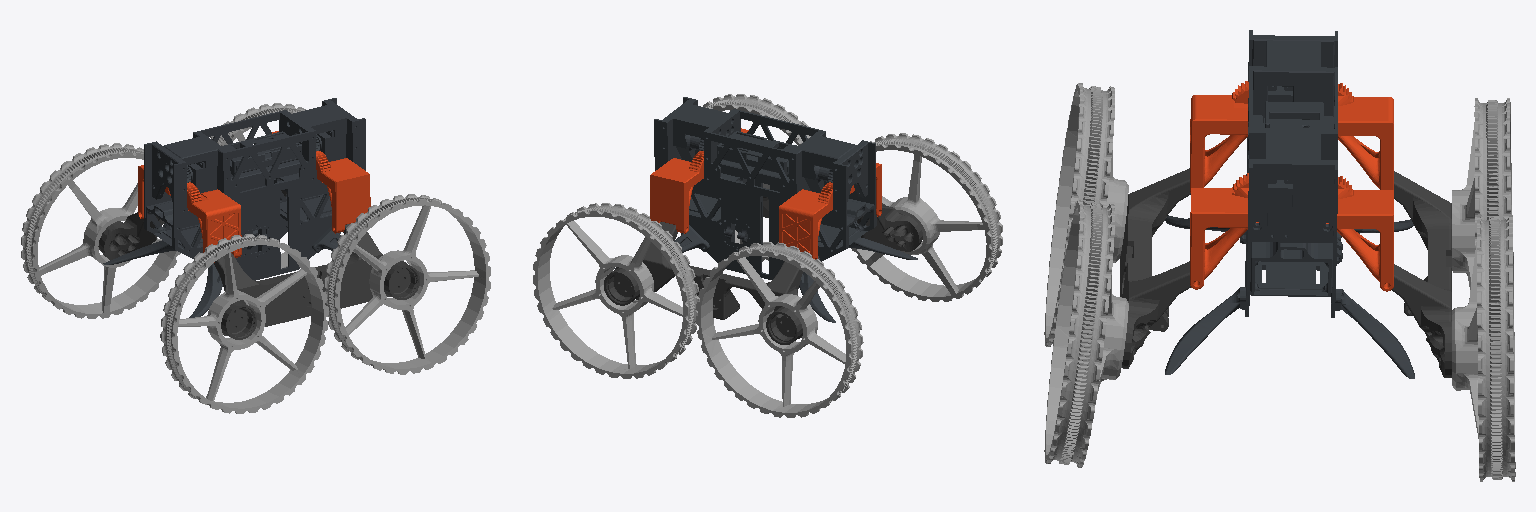
robot.urdf — drobotv0:
<?xml version="1.0" encoding="utf-8"?>
<!-- This URDF was automatically created by SolidWorks to URDF Exporter! Originally created by [author] ([email redacted]) 
     Commit Version: 1.6.0-4-g7f85cfe  Build Version: 1.6.7995.38578
     For more information, please see http://wiki.ros.org/sw_urdf_exporter -->
<robot
  name="drobotv0">
  <link
    name="base_link">
    <inertial>
      <origin
        xyz="-0.0889244188854842 -0.0297072849881794 -0.00929750180536801"
        rpy="0 0 0" />
      <mass
        value="0.833077329855222" />
      <inertia
        ixx="0.000773080517150311"
        ixy="4.75348987099268E-07"
        ixz="3.15411374662775E-05"
        iyy="0.00170443636203176"
        iyz="-5.22766703200179E-06"
        izz="0.00134882396575001" />
    </inertial>
    <visual>
      <origin
        xyz="0 0 0"
        rpy="0 0 0" />
      <geometry>
        <mesh
          filename="package://drobot_description/mesh_sub/base_link.STL" />
      </geometry>
      <material
        name="">
        <color
          rgba="0.262745098039216 0.282352941176471 0.301960784313725 1" />
      </material>
    </visual>
    <collision>
      <origin
        xyz="0 0 0"
        rpy="0 0 0" />
      <geometry>
        <mesh
          filename="package://drobot_description/mesh_sub/base_link.STL" />
      </geometry>
    </collision>
  </link>
  <link
    name="L_shaped_LF">
    <inertial>
      <origin
        xyz="-0.0914999999999999 -0.226139844904917 -0.00606387284104033"
        rpy="0 0 0" />
      <mass
        value="0" />
      <inertia
        ixx="0"
        ixy="0"
        ixz="0"
        iyy="0"
        iyz="0"
        izz="0" />
    </inertial>
    <visual>
      <origin
        xyz="0 0 0"
        rpy="0 0 0" />
      <geometry>
        <mesh
          filename="package://drobot_description/mesh_sub/L_shaped_LF.STL" />
      </geometry>
      <material
        name="">
        <color
          rgba="0.866666666666667 0.32156862745098 0.156862745098039 1" />
      </material>
    </visual>
    <collision>
      <origin
        xyz="0 0 0"
        rpy="0 0 0" />
      <geometry>
        <mesh
          filename="package://drobot_description/mesh_sub/L_shaped_LF.STL" />
      </geometry>
    </collision>
  </link>
  <joint
    name="servo_LF"
    type="revolute">
    <origin
      xyz="0 0 0"
      rpy="0 0 0" />
    <parent
      link="base_link" />
    <child
      link="L_shaped_LF" />
    <axis
      xyz="1 0 0" />
    <limit
      lower="-3.14"
      upper="3.14"
      effort="1"
      velocity="1" />
  </joint>
  <link
    name="arm_left">
    <inertial>
      <origin
        xyz="-0.0931620123430914 0.0448986931827952 -0.046046331460358"
        rpy="0 0 0" />
      <mass
        value="0.24484228934346" />
      <inertia
        ixx="0.000170537098668617"
        ixy="-1.58233646520693E-06"
        ixz="-1.7429684129348E-06"
        iyy="0.00224130018665751"
        iyz="5.42649839520087E-05"
        izz="0.00220859312793653" />
    </inertial>
    <visual>
      <origin
        xyz="0 0 0"
        rpy="0 0 0" />
      <geometry>
        <mesh
          filename="package://drobot_description/mesh_sub/arm_left.STL" />
      </geometry>
      <material
        name="">
        <color
          rgba="0.301960784313725 0.301960784313725 0.301960784313725 1" />
      </material>
    </visual>
    <collision>
      <origin
        xyz="0 0 0"
        rpy="0 0 0" />
      <geometry>
        <mesh
          filename="package://drobot_description/mesh_sub/arm_left.STL" />
      </geometry>
    </collision>
  </link>
  <joint
    name="armjoint_left"
    type="revolute">
    <origin
      xyz="0 0.05 -0.06"
      rpy="0 0 0" />
    <parent
      link="L_shaped_LF" />
    <child
      link="arm_left" />
    <axis
      xyz="-1 0 0" />
    <limit
      lower="-3.14"
      upper="3.14"
      effort="1"
      velocity="1" />
  </joint>
  <link
    name="wheel_LF">
    <inertial>
      <origin
        xyz="2.60862526024752E-10 -0.000286889805765134 -3.12484399267454E-06"
        rpy="0 0 0" />
      <mass
        value="0.154468165769782" />
      <inertia
        ixx="0.000600971981829425"
        ixy="1.08364593575826E-12"
        ixz="7.04343356440919E-11"
        iyy="0.00115439211878326"
        iyz="6.13580681107254E-06"
        izz="0.000601040353425951" />
    </inertial>
    <visual>
      <origin
        xyz="0 0 0"
        rpy="0 0 0" />
      <geometry>
        <mesh
          filename="package://drobot_description/mesh_sub/wheel_LF.STL" />
      </geometry>
      <material
        name="">
        <color
          rgba="0.647058823529412 0.647058823529412 0.647058823529412 1" />
      </material>
    </visual>
    <collision>
      <origin
        xyz="0 0 0"
        rpy="0 0 0" />
      <geometry>
        <mesh
          filename="package://drobot_description/mesh_sub/wheel_LF.STL" />
      </geometry>
    </collision>
  </link>
  <joint
    name="wheejoint_LF"
    type="continuous">
    <origin
      xyz="0.023562 0.08366 -0.059076"
      rpy="0 0 0" />
    <parent
      link="arm_left" />
    <child
      link="wheel_LF" />
    <axis
      xyz="0 0.99994 0.011086" />
    <limit
      lower="-3.14"
      upper="3.14"
      effort="1"
      velocity="1" />
  </joint>
  <link
    name="Wheel_LR">
    <inertial>
      <origin
        xyz="-5.15756337221562E-08 0.000105250285688585 1.17488931114518E-06"
        rpy="0 0 0" />
      <mass
        value="0.152312962480992" />
      <inertia
        ixx="0.000598326596096096"
        ixy="-1.78118226081761E-11"
        ixz="-1.27742129121258E-10"
        iyy="0.00115245973115687"
        iyz="6.14368741670457E-06"
        izz="0.000598394447443558" />
    </inertial>
    <visual>
      <origin
        xyz="0 0 0"
        rpy="0 0 0" />
      <geometry>
        <mesh
          filename="package://drobot_description/mesh_sub/Wheel_LR.STL" />
      </geometry>
      <material
        name="">
        <color
          rgba="0.647058823529412 0.647058823529412 0.647058823529412 1" />
      </material>
    </visual>
    <collision>
      <origin
        xyz="0 0 0"
        rpy="0 0 0" />
      <geometry>
        <mesh
          filename="package://drobot_description/mesh_sub/Wheel_LR.STL" />
      </geometry>
    </collision>
  </link>
  <joint
    name="wheeljoint_LR"
    type="continuous">
    <origin
      xyz="-0.20956 0.08166 -0.059098"
      rpy="0 0 0" />
    <parent
      link="arm_left" />
    <child
      link="Wheel_LR" />
    <axis
      xyz="0 0.99994 0.011086" />
    <limit
      lower="-3.14"
      upper="3.14"
      effort="1"
      velocity="1" />
  </joint>
  <link
    name="L_shaped_LR">
    <inertial>
      <origin
        xyz="0.0935000000000001 -0.226000000000001 -0.00999999999998616"
        rpy="0 0 0" />
      <mass
        value="0" />
      <inertia
        ixx="0"
        ixy="0"
        ixz="0"
        iyy="0"
        iyz="0"
        izz="0" />
    </inertial>
    <visual>
      <origin
        xyz="0 0 0"
        rpy="0 0 0" />
      <geometry>
        <mesh
          filename="package://drobot_description/mesh_sub/L_shaped_LR.STL" />
      </geometry>
      <material
        name="">
        <color
          rgba="0.866666666666667 0.32156862745098 0.156862745098039 1" />
      </material>
    </visual>
    <collision>
      <origin
        xyz="0 0 0"
        rpy="0 0 0" />
      <geometry>
        <mesh
          filename="package://drobot_description/mesh_sub/L_shaped_LR.STL" />
      </geometry>
    </collision>
  </link>
  <joint
    name="servo_LR"
    type="revolute">
    <origin
      xyz="-0.185 0 0"
      rpy="-0.017411 0 0" />
    <parent
      link="base_link" />
    <child
      link="L_shaped_LR" />
    <axis
      xyz="1 0 0" />
    <limit
      lower="-3.14"
      upper="3.14"
      effort="1"
      velocity="1" />
    <mimic
      joint="servo_LF"
      multiplier="1"
      offset="0" />
  </joint>
  <link
    name="L_shaped_RF">
    <inertial>
      <origin
        xyz="-0.0019695833812847 -0.0309831143748686 -0.0138278315830626"
        rpy="0 0 0" />
      <mass
        value="0.0905005401209127" />
      <inertia
        ixx="7.54905591561205E-05"
        ixy="6.13267441308909E-06"
        ixz="3.92994349377663E-06"
        iyy="5.55206991037999E-05"
        iyz="-2.21490616791507E-05"
        izz="5.79185192001968E-05" />
    </inertial>
    <visual>
      <origin
        xyz="0 0 0"
        rpy="0 0 0" />
      <geometry>
        <mesh
          filename="package://drobot_description/mesh_sub/L_shaped_RF.STL" />
      </geometry>
      <material
        name="">
        <color
          rgba="0.866666666666667 0.32156862745098 0.156862745098039 1" />
      </material>
    </visual>
    <collision>
      <origin
        xyz="0 0 0"
        rpy="0 0 0" />
      <geometry>
        <mesh
          filename="package://drobot_description/mesh_sub/L_shaped_RF.STL" />
      </geometry>
    </collision>
  </link>
  <joint
    name="servo_RF"
    type="revolute">
    <origin
      xyz="0 -0.058991 0.0010272"
      rpy="-0.017411 0 0" />
    <parent
      link="base_link" />
    <child
      link="L_shaped_RF" />
    <axis
      xyz="1 0 0" />
    <limit
      lower="-3.14"
      upper="3.14"
      effort="1"
      velocity="1" />
  </joint>
  <link
    name="arm_right">
    <inertial>
      <origin
        xyz="-0.0908822478205685 -0.050184669302771 -0.0447973541801233"
        rpy="0 0 0" />
      <mass
        value="0.308279334191148" />
      <inertia
        ixx="0.000203101220752389"
        ixy="-4.87097044355127E-06"
        ixz="1.17916791952934E-05"
        iyy="0.00240539625392237"
        iyz="-5.88234514179037E-05"
        izz="0.00237296769471379" />
    </inertial>
    <visual>
      <origin
        xyz="0 0 0"
        rpy="0 0 0" />
      <geometry>
        <mesh
          filename="package://drobot_description/mesh_sub/arm_right.STL" />
      </geometry>
      <material
        name="">
        <color
          rgba="0.301960784313725 0.301960784313725 0.301960784313725 1" />
      </material>
    </visual>
    <collision>
      <origin
        xyz="0 0 0"
        rpy="0 0 0" />
      <geometry>
        <mesh
          filename="package://drobot_description/mesh_sub/arm_right.STL" />
      </geometry>
    </collision>
  </link>
  <joint
    name="armjoint_right"
    type="revolute">
    <origin
      xyz="0 -0.049908 -0.060076"
      rpy="0.0015296 0 0" />
    <parent
      link="L_shaped_RF" />
    <child
      link="arm_right" />
    <axis
      xyz="-1 0 0" />
    <limit
      lower="-3.14"
      upper="3.14"
      effort="1"
      velocity="1" />
  </joint>
  <link
    name="wheel_RF">
    <inertial>
      <origin
        xyz="-4.40591140654645E-08 0.000284922709760382 -3.3868641609841E-05"
        rpy="0 0 0" />
      <mass
        value="0.154467898219019" />
      <inertia
        ixx="0.000600971578740358"
        ixy="6.12602918489903E-11"
        ixz="1.30353191446884E-10"
        iyy="0.0011467663289071"
        iyz="-6.47976005816027E-05"
        izz="0.000608664714579085" />
    </inertial>
    <visual>
      <origin
        xyz="0 0 0"
        rpy="0 0 0" />
      <geometry>
        <mesh
          filename="package://drobot_description/mesh_sub/wheel_RF.STL" />
      </geometry>
      <material
        name="">
        <color
          rgba="0.647058823529412 0.647058823529412 0.647058823529412 1" />
      </material>
    </visual>
    <collision>
      <origin
        xyz="0 0 0"
        rpy="0 0 0" />
      <geometry>
        <mesh
          filename="package://drobot_description/mesh_sub/wheel_RF.STL" />
      </geometry>
    </collision>
  </link>
  <joint
    name="wheeljoint_RF"
    type="continuous">
    <origin
      xyz="0.023562 -0.089495 -0.049796"
      rpy="0 0 0" />
    <parent
      link="arm_right" />
    <child
      link="wheel_RF" />
    <axis
      xyz="0 -0.99303 0.11789" />
    <limit
      lower="-3.14"
      upper="3.14"
      effort="1"
      velocity="1" />
  </joint>
  <link
    name="wheel_RR">
    <inertial>
      <origin
        xyz="-6.45995504866548E-08 0.000284926543628723 -3.38366730441714E-05"
        rpy="0 0 0" />
      <mass
        value="0.154467896551541" />
      <inertia
        ixx="0.000600971815877821"
        ixy="6.64266647788824E-11"
        ixz="1.46664691471037E-10"
        iyy="0.00114676631343275"
        iyz="-6.47976414259165E-05"
        izz="0.000608664474500489" />
    </inertial>
    <visual>
      <origin
        xyz="0 0 0"
        rpy="0 0 0" />
      <geometry>
        <mesh
          filename="package://drobot_description/mesh_sub/wheel_RR.STL" />
      </geometry>
      <material
        name="">
        <color
          rgba="0.647058823529412 0.647058823529412 0.647058823529412 1" />
      </material>
    </visual>
    <collision>
      <origin
        xyz="0 0 0"
        rpy="0 0 0" />
      <geometry>
        <mesh
          filename="package://drobot_description/mesh_sub/wheel_RR.STL" />
      </geometry>
    </collision>
  </link>
  <joint
    name="wheeljoint_RR"
    type="continuous">
    <origin
      xyz="-0.20956 -0.089495 -0.049796"
      rpy="0 0 0" />
    <parent
      link="arm_right" />
    <child
      link="wheel_RR" />
    <axis
      xyz="0 -0.99303 0.11789" />
    <limit
      lower="-3.14"
      upper="3.14"
      effort="1"
      velocity="1" />
  </joint>
  <link
    name="L_shaped_RR">
    <inertial>
      <origin
        xyz="-0.00191858997035284 -0.0307223401278325 -0.0137316842235734"
        rpy="0 0 0" />
      <mass
        value="0.087853253481173" />
      <inertia
        ixx="7.23346796635378E-05"
        ixy="6.0188816086711E-06"
        ixz="3.98510495451234E-06"
        iyy="5.36793164280707E-05"
        iyz="-2.11530981944826E-05"
        izz="5.58695162641352E-05" />
    </inertial>
    <visual>
      <origin
        xyz="0 0 0"
        rpy="0 0 0" />
      <geometry>
        <mesh
          filename="package://drobot_description/mesh_sub/L_shaped_RR.STL" />
      </geometry>
      <material
        name="">
        <color
          rgba="0.866666666666667 0.32156862745098 0.156862745098039 1" />
      </material>
    </visual>
    <collision>
      <origin
        xyz="0 0 0"
        rpy="0 0 0" />
      <geometry>
        <mesh
          filename="package://drobot_description/mesh_sub/L_shaped_RR.STL" />
      </geometry>
    </collision>
  </link>
  <joint
    name="servo_RR"
    type="revolute">
    <origin
      xyz="-0.185 -0.058991 0.0010272"
      rpy="-0.017411 0 0" />
    <parent
      link="base_link" />
    <child
      link="L_shaped_RR" />
    <axis
      xyz="1 0 0" />
    <limit
      lower="-3.14"
      upper="3.14"
      effort="1"
      velocity="1" />
    <mimic
      joint="servo_RF"
      multiplier="1"
      offset="0" />
  </joint>
</robot>

--- Render facts (derived) ---
Views: 3 orthographic renders of the robot side by side, from view 1: azimuth 30°, elevation 25°; view 2: azimuth 150°, elevation 25°; view 3: azimuth 270°, elevation 25°.
Robot: drobotv0 — 11 links, 10 joints (6 revolute, 4 continuous); root link base_link; default pose: every joint at zero.
Links seen in each view (by area): view 1: base_link, wheel_RR, wheel_RF, Wheel_LR, arm_right, L_shaped_RF, L_shaped_RR, arm_left, wheel_LF; view 2: base_link, Wheel_LR, wheel_LF, wheel_RR, arm_left, L_shaped_LF, L_shaped_LR, arm_right, wheel_RF; view 3: base_link, wheel_RF, wheel_LF, wheel_RR, arm_right, arm_left, Wheel_LR, L_shaped_RF, L_shaped_LF, L_shaped_RR, L_shaped_LR.
Boxes of the visible links, bbox=[...] form: base_link: bbox=[103, 98, 365, 317]; wheel_RR: bbox=[160, 234, 328, 413]; wheel_RF: bbox=[324, 194, 490, 374]; Wheel_LR: bbox=[21, 143, 180, 318]; arm_right: bbox=[214, 224, 419, 339]; L_shaped_RF: bbox=[316, 151, 370, 233]; L_shaped_RR: bbox=[187, 182, 241, 262]; arm_left: bbox=[98, 190, 286, 259]; wheel_LF: bbox=[210, 103, 305, 277]; base_link: bbox=[614, 97, 917, 322]; Wheel_LR: bbox=[696, 242, 863, 417]; wheel_LF: bbox=[533, 203, 699, 378]; wheel_RR: bbox=[851, 133, 1002, 301]; arm_left: bbox=[604, 222, 802, 344]; L_shaped_LF: bbox=[650, 151, 703, 233]; L_shaped_LR: bbox=[779, 182, 832, 259]; arm_right: bbox=[763, 183, 922, 251]; wheel_RF: bbox=[703, 94, 810, 261]; base_link: bbox=[1165, 30, 1414, 378]; wheel_RF: bbox=[1044, 200, 1128, 467]; wheel_LF: bbox=[1452, 215, 1515, 481]; wheel_RR: bbox=[1044, 83, 1128, 346]; arm_right: bbox=[1120, 168, 1190, 368]; arm_left: bbox=[1392, 171, 1451, 377]; Wheel_LR: bbox=[1452, 98, 1511, 289]; L_shaped_RF: bbox=[1190, 173, 1258, 289]; L_shaped_LF: bbox=[1326, 176, 1393, 291]; L_shaped_RR: bbox=[1190, 81, 1248, 192]; L_shaped_LR: bbox=[1338, 83, 1393, 189].
Size in the robot's own frame: 0.4569 by 0.3959 by 0.2897 metres.
Meshes: 11 distinct files referenced, 11 mesh visuals loaded (11 binary STL).